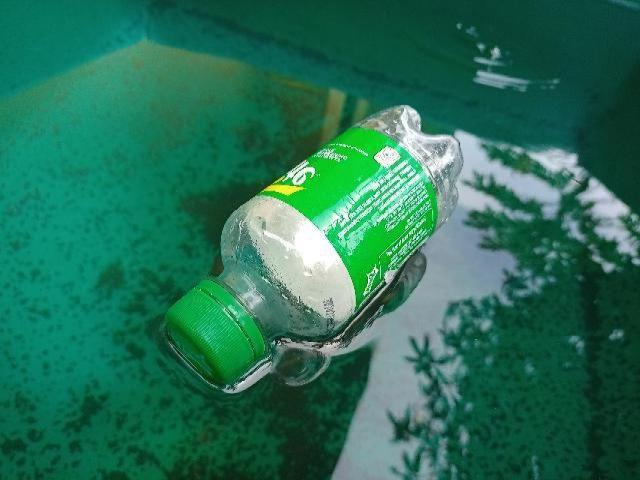Bottle: (160, 102, 468, 398)
